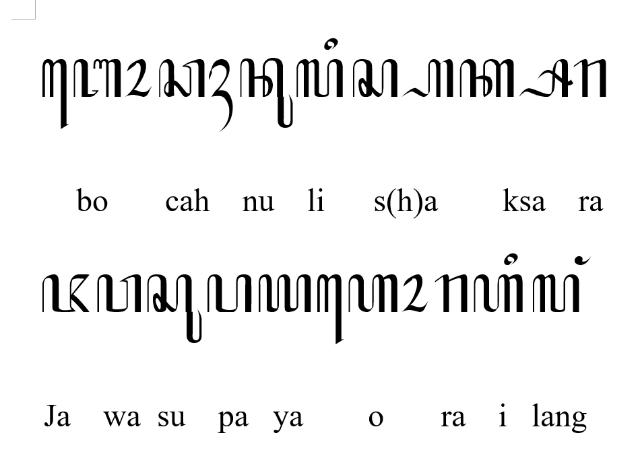_h: (400, 58, 454, 98)
_h1: (208, 58, 234, 132)
_s: (518, 58, 574, 98)
b: (72, 58, 121, 98)
c: (158, 58, 206, 98)
e1: (316, 275, 344, 346), (42, 58, 68, 129)
h: (472, 274, 524, 314), (348, 275, 398, 313)
i: (324, 37, 338, 51), (504, 253, 518, 266)
j: (42, 274, 90, 314)
k: (460, 58, 514, 98)
l: (294, 58, 344, 98), (532, 274, 580, 314)
ng: (574, 256, 592, 266)
nu: (239, 58, 293, 128)
o: (400, 274, 428, 312), (125, 58, 151, 98)
p: (206, 274, 252, 314)
r: (434, 274, 468, 314), (574, 58, 606, 98)
s: (352, 58, 398, 98)
su: (148, 274, 202, 344)
w: (96, 274, 142, 314)
y: (258, 274, 312, 314)
